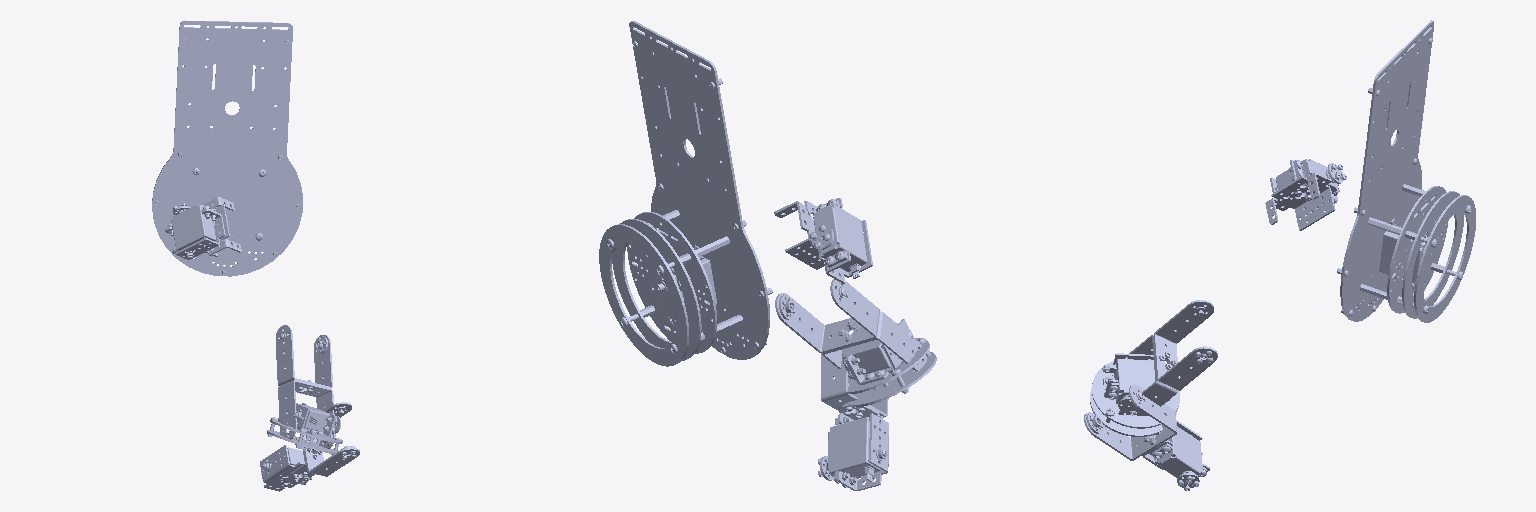
URDF robot description (model):
<?xml version="1.0" encoding="utf-8"?>
<!-- This URDF was automatically created by SolidWorks to URDF Exporter! Originally created by [author] ([email redacted]) 
     Commit Version: 1.5.0-0-g9aa0fdb  Build Version: 1.5.7004.21443
     For more information, please see http://wiki.ros.org/sw_urdf_exporter -->
<robot
  name="model">
  <link
    name="base_link">
    <inertial>
      <origin
        xyz="0.0436917991337278 -0.0494371510102776 0.186840898804923"
        rpy="0 0 0" />
      <mass
        value="0.333640420727985" />
      <inertia
        ixx="0.00284098696964174"
        ixy="-0.000857797912935067"
        ixz="0.000148643169289184"
        iyy="0.00156472625044952"
        iyz="0.000402422787871805"
        izz="0.00254922424007404" />
    </inertial>
    <visual>
      <origin
        xyz="0 0 0"
        rpy="0 0 0" />
      <geometry>
        <mesh
          filename="package://model/meshes/base_link.STL" />
      </geometry>
      <material
        name="">
        <color
          rgba="0.792156862745098 0.819607843137255 0.933333333333333 1" />
      </material>
    </visual>
    <collision>
      <origin
        xyz="0 0 0"
        rpy="0 0 0" />
      <geometry>
        <mesh
          filename="package://model/meshes/base_link.STL" />
      </geometry>
    </collision>
  </link>
  <link
    name="link1">
    <inertial>
      <origin
        xyz="-0.00383635172778814 -0.0123314490087622 0.013483516610567"
        rpy="0 0 0" />
      <mass
        value="0.333640420727985" />
      <inertia
        ixx="0.00284098696964174"
        ixy="-0.000857797912935067"
        ixz="0.000148643169289184"
        iyy="0.00156472625044952"
        iyz="0.000402422787871805"
        izz="0.00254922424007404" />
    </inertial>
    <visual>
      <origin
        xyz="0 0 0"
        rpy="0 0 0" />
      <geometry>
        <mesh
          filename="package://model/meshes/link1.STL" />
      </geometry>
      <material
        name="">
        <color
          rgba="0.792156862745098 0.819607843137255 0.933333333333333 1" />
      </material>
    </visual>
    <collision>
      <origin
        xyz="0 0 0"
        rpy="0 0 0" />
      <geometry>
        <mesh
          filename="package://model/meshes/link1.STL" />
      </geometry>
    </collision>
  </link>
  <joint
    name="joint1"
    type="continuous">
    <origin
      xyz="0.047528150861516 -0.173357382194356 -0.0371057020015154"
      rpy="1.5707963267949 0 0" />
    <parent
      link="base_link" />
    <child
      link="link1" />
    <axis
      xyz="0.425824973104813 0.893245610181825 -0.144171329227358" />
    <safety_controller
      k_velocity="0" />
  </joint>
  <link
    name="link2">
    <inertial>
      <origin
        xyz="0.00643206518602143 0.0105341122531142 4.46322895665818E-05"
        rpy="0 0 0" />
      <mass
        value="0.333640420727985" />
      <inertia
        ixx="0.00283279619037031"
        ixy="-0.000871292752237532"
        ixz="0.000125045341125639"
        iyy="0.00154321095662978"
        iyz="0.000354359324445806"
        izz="0.00257893031316523" />
    </inertial>
    <visual>
      <origin
        xyz="0 0 0"
        rpy="0 0 0" />
      <geometry>
        <mesh
          filename="package://model/meshes/link2.STL" />
      </geometry>
      <material
        name="">
        <color
          rgba="0.792156862745098 0.819607843137255 0.933333333333333 1" />
      </material>
    </visual>
    <collision>
      <origin
        xyz="0 0 0"
        rpy="0 0 0" />
      <geometry>
        <mesh
          filename="package://model/meshes/link2.STL" />
      </geometry>
    </collision>
  </link>
  <joint
    name="joint2"
    type="continuous">
    <origin
      xyz="-0.0102426457839843 -0.022873328938352 0.0138947824313733"
      rpy="-0.0333432597533398 0.0162843525697357 0.00189128807542449" />
    <parent
      link="link1" />
    <child
      link="link2" />
    <axis
      xyz="0.897466782310077 -0.437227917051183 -0.0581818116002004" />
    <safety_controller
      k_velocity="0" />
  </joint>
  <link
    name="link3">
    <inertial>
      <origin
        xyz="-0.00787824504592116 -0.0306858434226898 0.0890670800425525"
        rpy="0 0 0" />
      <mass
        value="0.333640420727985" />
      <inertia
        ixx="0.00298766046939977"
        ixy="-0.000586483262591321"
        ixz="0.000309470114077487"
        iyy="0.0020634040707584"
        iyz="0.000764813525225485"
        izz="0.00190387292000715" />
    </inertial>
    <visual>
      <origin
        xyz="0 0 0"
        rpy="0 0 0" />
      <geometry>
        <mesh
          filename="package://model/meshes/link3.STL" />
      </geometry>
      <material
        name="">
        <color
          rgba="0.792156862745098 0.819607843137255 0.933333333333333 1" />
      </material>
    </visual>
    <collision>
      <origin
        xyz="0 0 0"
        rpy="0 0 0" />
      <geometry>
        <mesh
          filename="package://model/meshes/link3.STL" />
      </geometry>
    </collision>
  </link>
  <joint
    name="joint3"
    type="continuous">
    <origin
      xyz="0.033199367489059 0.0764270636446334 -0.0622310689365501"
      rpy="0.472349777750858 -0.209962117770755 -0.0813208886948899" />
    <parent
      link="link2" />
    <child
      link="link3" />
    <axis
      xyz="0.897466782310077 -0.437227917051181 -0.0581818116002047" />
    <safety_controller
      k_velocity="0" />
  </joint>
  <link
    name="link4">
    <inertial>
      <origin
        xyz="-0.00687253616227962 -0.0773238389563444 -0.117666964320499"
        rpy="0 0 0" />
      <mass
        value="0.333640420727985" />
      <inertia
        ixx="0.00326848695163229"
        ixy="-5.61318752492955E-05"
        ixz="3.64749887322057E-05"
        iyy="0.00250786325845591"
        iyz="-0.000493668068103668"
        izz="0.00117858725007713" />
    </inertial>
    <visual>
      <origin
        xyz="0 0 0"
        rpy="0 0 0" />
      <geometry>
        <mesh
          filename="package://model/meshes/link4.STL" />
      </geometry>
      <material
        name="">
        <color
          rgba="0.792156862745098 0.819607843137255 0.933333333333333 1" />
      </material>
    </visual>
    <collision>
      <origin
        xyz="0 0 0"
        rpy="0 0 0" />
      <geometry>
        <mesh
          filename="package://model/meshes/link4.STL" />
      </geometry>
    </collision>
  </link>
  <joint
    name="joint4"
    type="continuous">
    <origin
      xyz="0.0433085747363087 0.0834146053555329 0.0240077272495854"
      rpy="2.64588600634877 -0.143278031772062 2.5889416006" />
    <parent
      link="link3" />
    <child
      link="link4" />
    <axis
      xyz="0.0581818115976145 0.248102155270561 -0.966985107097996" />
    <safety_controller
      k_velocity="0" />
  </joint>
</robot>

--- Render facts (derived) ---
The picture shows the robot from 3 angles, left to right: view 1: azimuth 30°, elevation 25°; view 2: azimuth 150°, elevation 25°; view 3: azimuth 270°, elevation 25°; orthographic projection.
Model model with 5 links and 4 joints (4 continuous), rooted at base_link, posed all joints at 0.
Visible links, largest first — view 1: base_link, link2, link4, link3, link1; view 2: base_link, link3, link2, link4, link1; view 3: base_link, link3, link2, link1, link4.
Boxes of the visible links, x1,y1,x2,y2 form: base_link: (152, 20, 302, 276); link2: (276, 325, 335, 448); link4: (165, 197, 241, 259); link3: (260, 402, 359, 491); link1: (267, 403, 342, 454); base_link: (599, 21, 772, 366); link3: (818, 348, 888, 490); link2: (775, 279, 926, 378); link4: (774, 198, 872, 283); link1: (842, 319, 936, 407); base_link: (1337, 20, 1475, 322); link3: (1084, 385, 1209, 490); link2: (1118, 300, 1217, 415); link1: (1090, 353, 1179, 436); link4: (1265, 159, 1346, 230).
Size in the robot's own frame: 188 by 351 by 458 metres.
Meshes: 5 distinct files referenced, 5 mesh visuals loaded (5 binary STL).